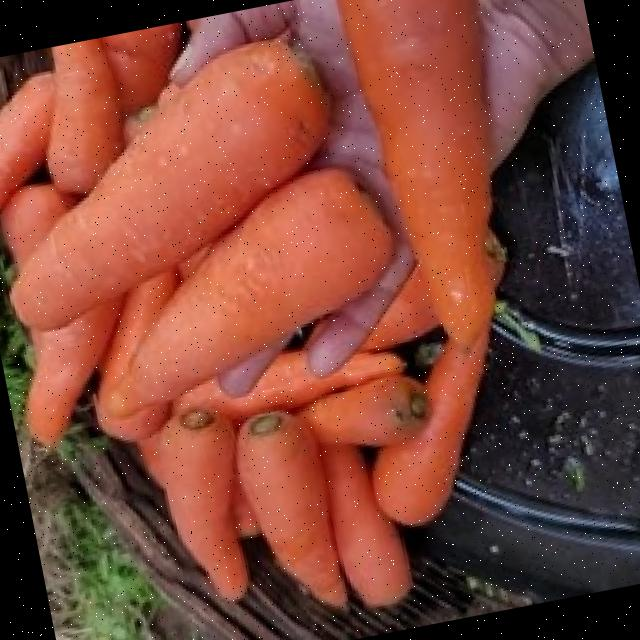carrot: (0, 0, 493, 609)
